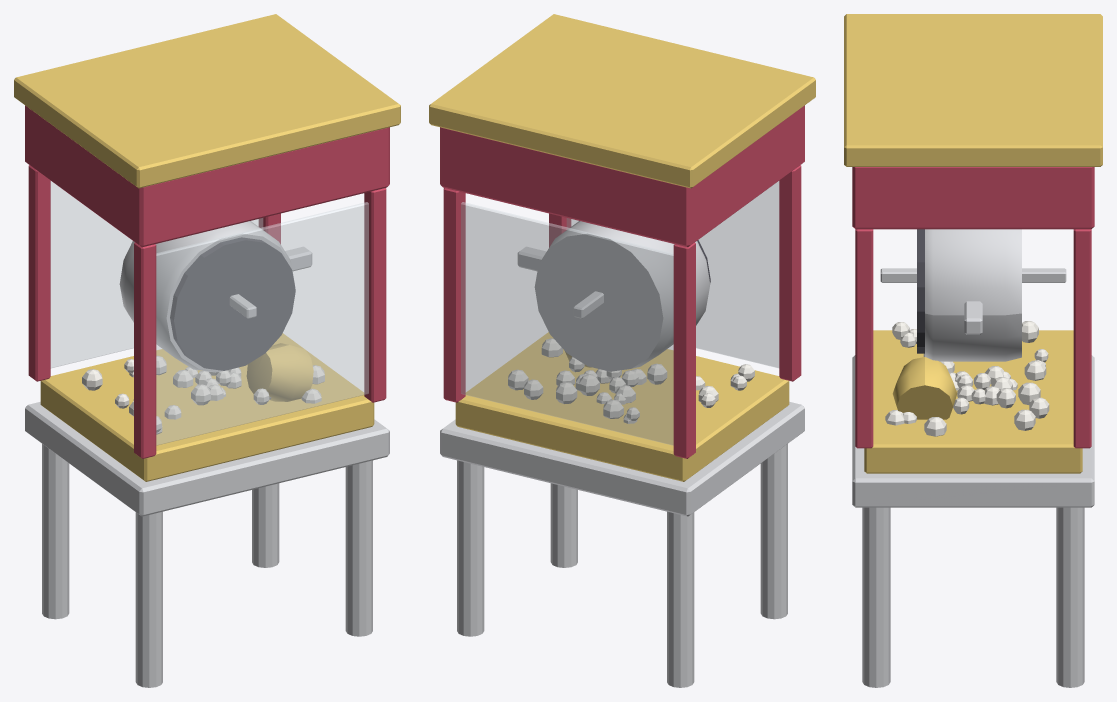
Rendered from cinema-multiplex-and-foyer-popcorn-kettle-machine-cec50d7d.glb.
The picture shows the model from 3 angles, left to right: view 1: azimuth 30°, elevation 25°; view 2: azimuth 150°, elevation 25°; view 3: azimuth 270°, elevation 25°; orthographic projection. The views are drawn at different scales.
Visible parts, largest first — view 1: popcorn-kettle-machine, kettle-drum/dark, kettle-drum/metal; view 2: popcorn-kettle-machine, kettle-drum/metal; view 3: popcorn-kettle-machine, kettle-drum/metal, kettle-drum/dark.
Boxes of the visible parts, <box> form: popcorn-kettle-machine: <box>14,14,400,687</box>; kettle-drum/dark: <box>170,237,295,370</box>; kettle-drum/metal: <box>119,221,312,372</box>; popcorn-kettle-machine: <box>429,14,815,687</box>; kettle-drum/metal: <box>517,221,710,371</box>; popcorn-kettle-machine: <box>844,14,1102,687</box>; kettle-drum/metal: <box>925,229,1021,361</box>; kettle-drum/dark: <box>917,229,924,353</box>.
Size of the model in its own units: 0.7801 by 1.5 by 0.64.
